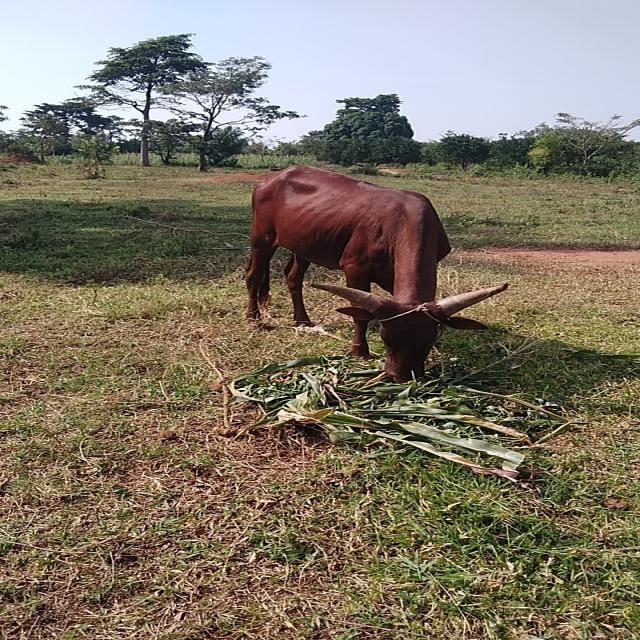Front: (246, 166, 508, 381)
